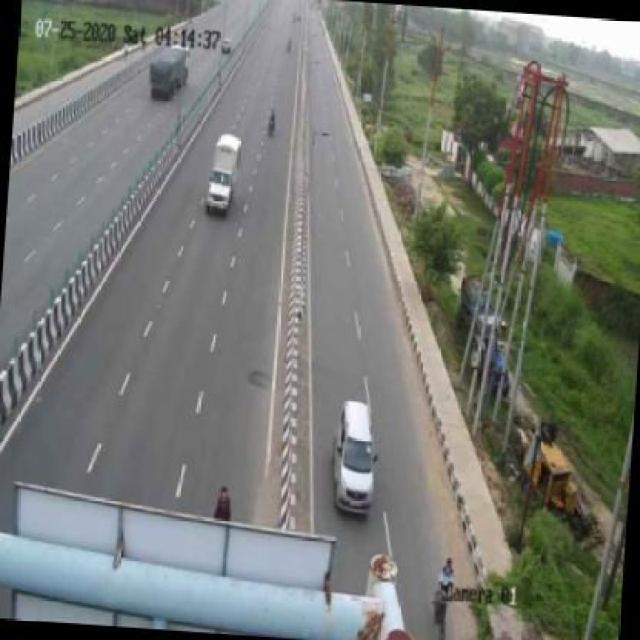car: (320, 391, 389, 518), (200, 129, 249, 225)
